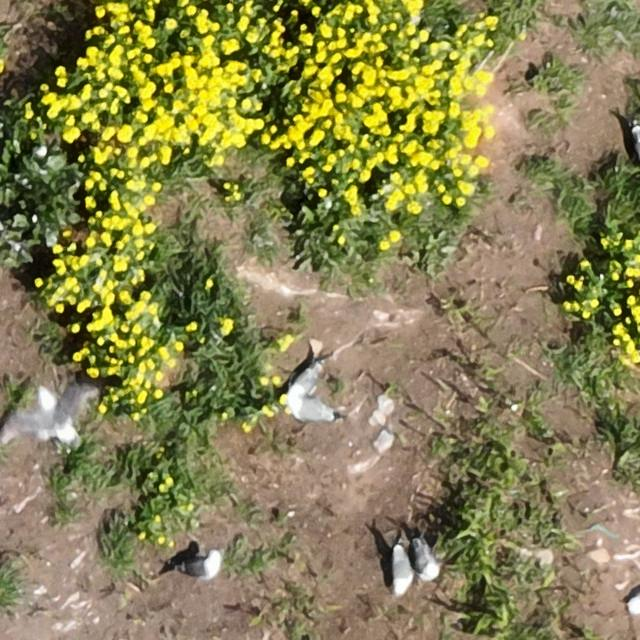F: (9, 374, 92, 442)
umineko: (286, 358, 326, 400), (294, 398, 338, 422), (413, 540, 438, 578), (393, 551, 412, 594), (183, 556, 219, 576)
